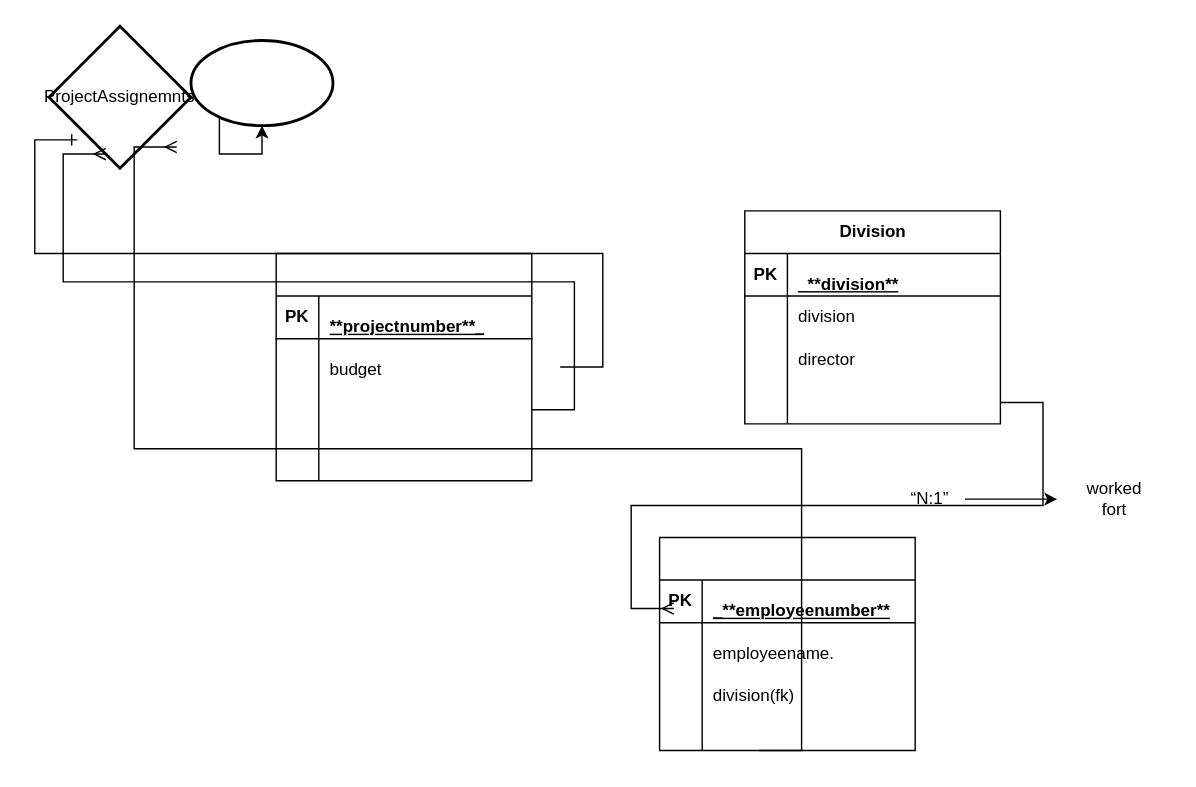
The diagram is 1196 pixels wide and 787 high, and some of its shapes have lost their labels. The box of each missing label's shape, as (x1, y1, x2, y2) in pixels:
Employees: (658, 536, 915, 750)
Projects: (275, 252, 532, 481)
